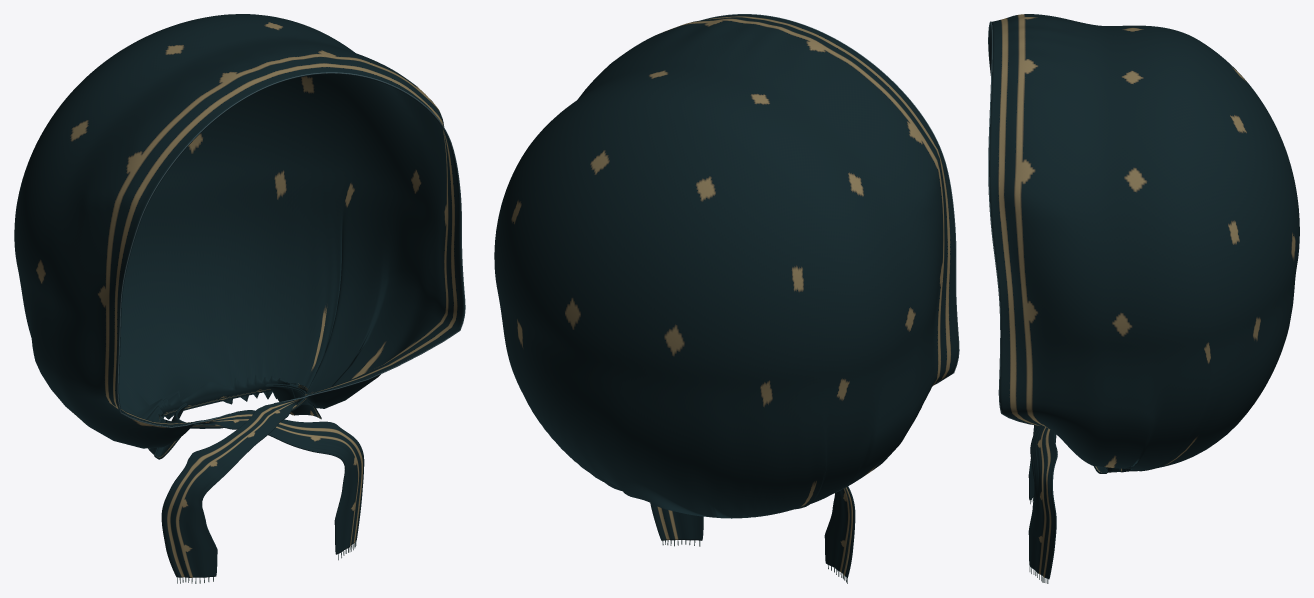
File: Masculine-curly-top-tshirt-pashmina250-headgear.glb
3 renders of one model, left to right at view 1: azimuth 30°, elevation 25°; view 2: azimuth 150°, elevation 25°; view 3: azimuth 270°, elevation 25°, orthographic. The views are drawn at different scales.
Visible parts, largest first — view 1: 226 headgear / Headwear / continuous woven pashmina239, 226 headgear / Headwear / face edge239; view 2: 226 headgear / Headwear / continuous woven pashmina239, 226 headgear / Headwear / face edge239; view 3: 226 headgear / Headwear / continuous woven pashmina239, 226 headgear / Headwear / face edge239.
Part boxes in pixels (x1,y1,x2,y2): 226 headgear / Headwear / continuous woven pashmina239: [14, 14, 464, 577]; 226 headgear / Headwear / face edge239: [117, 72, 465, 427]; 226 headgear / Headwear / continuous woven pashmina239: [494, 14, 958, 577]; 226 headgear / Headwear / face edge239: [701, 14, 959, 384]; 226 headgear / Headwear / continuous woven pashmina239: [988, 14, 1299, 579]; 226 headgear / Headwear / face edge239: [988, 21, 1033, 424].
Bounding box in the file's own units: 1.07 × 1.41 × 0.7828.
Materials: 3 (1 with a texture image).
